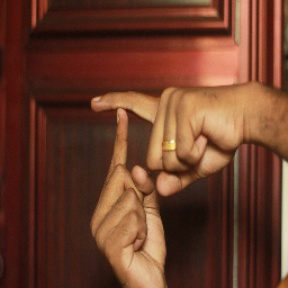T: (82, 79, 171, 199)
